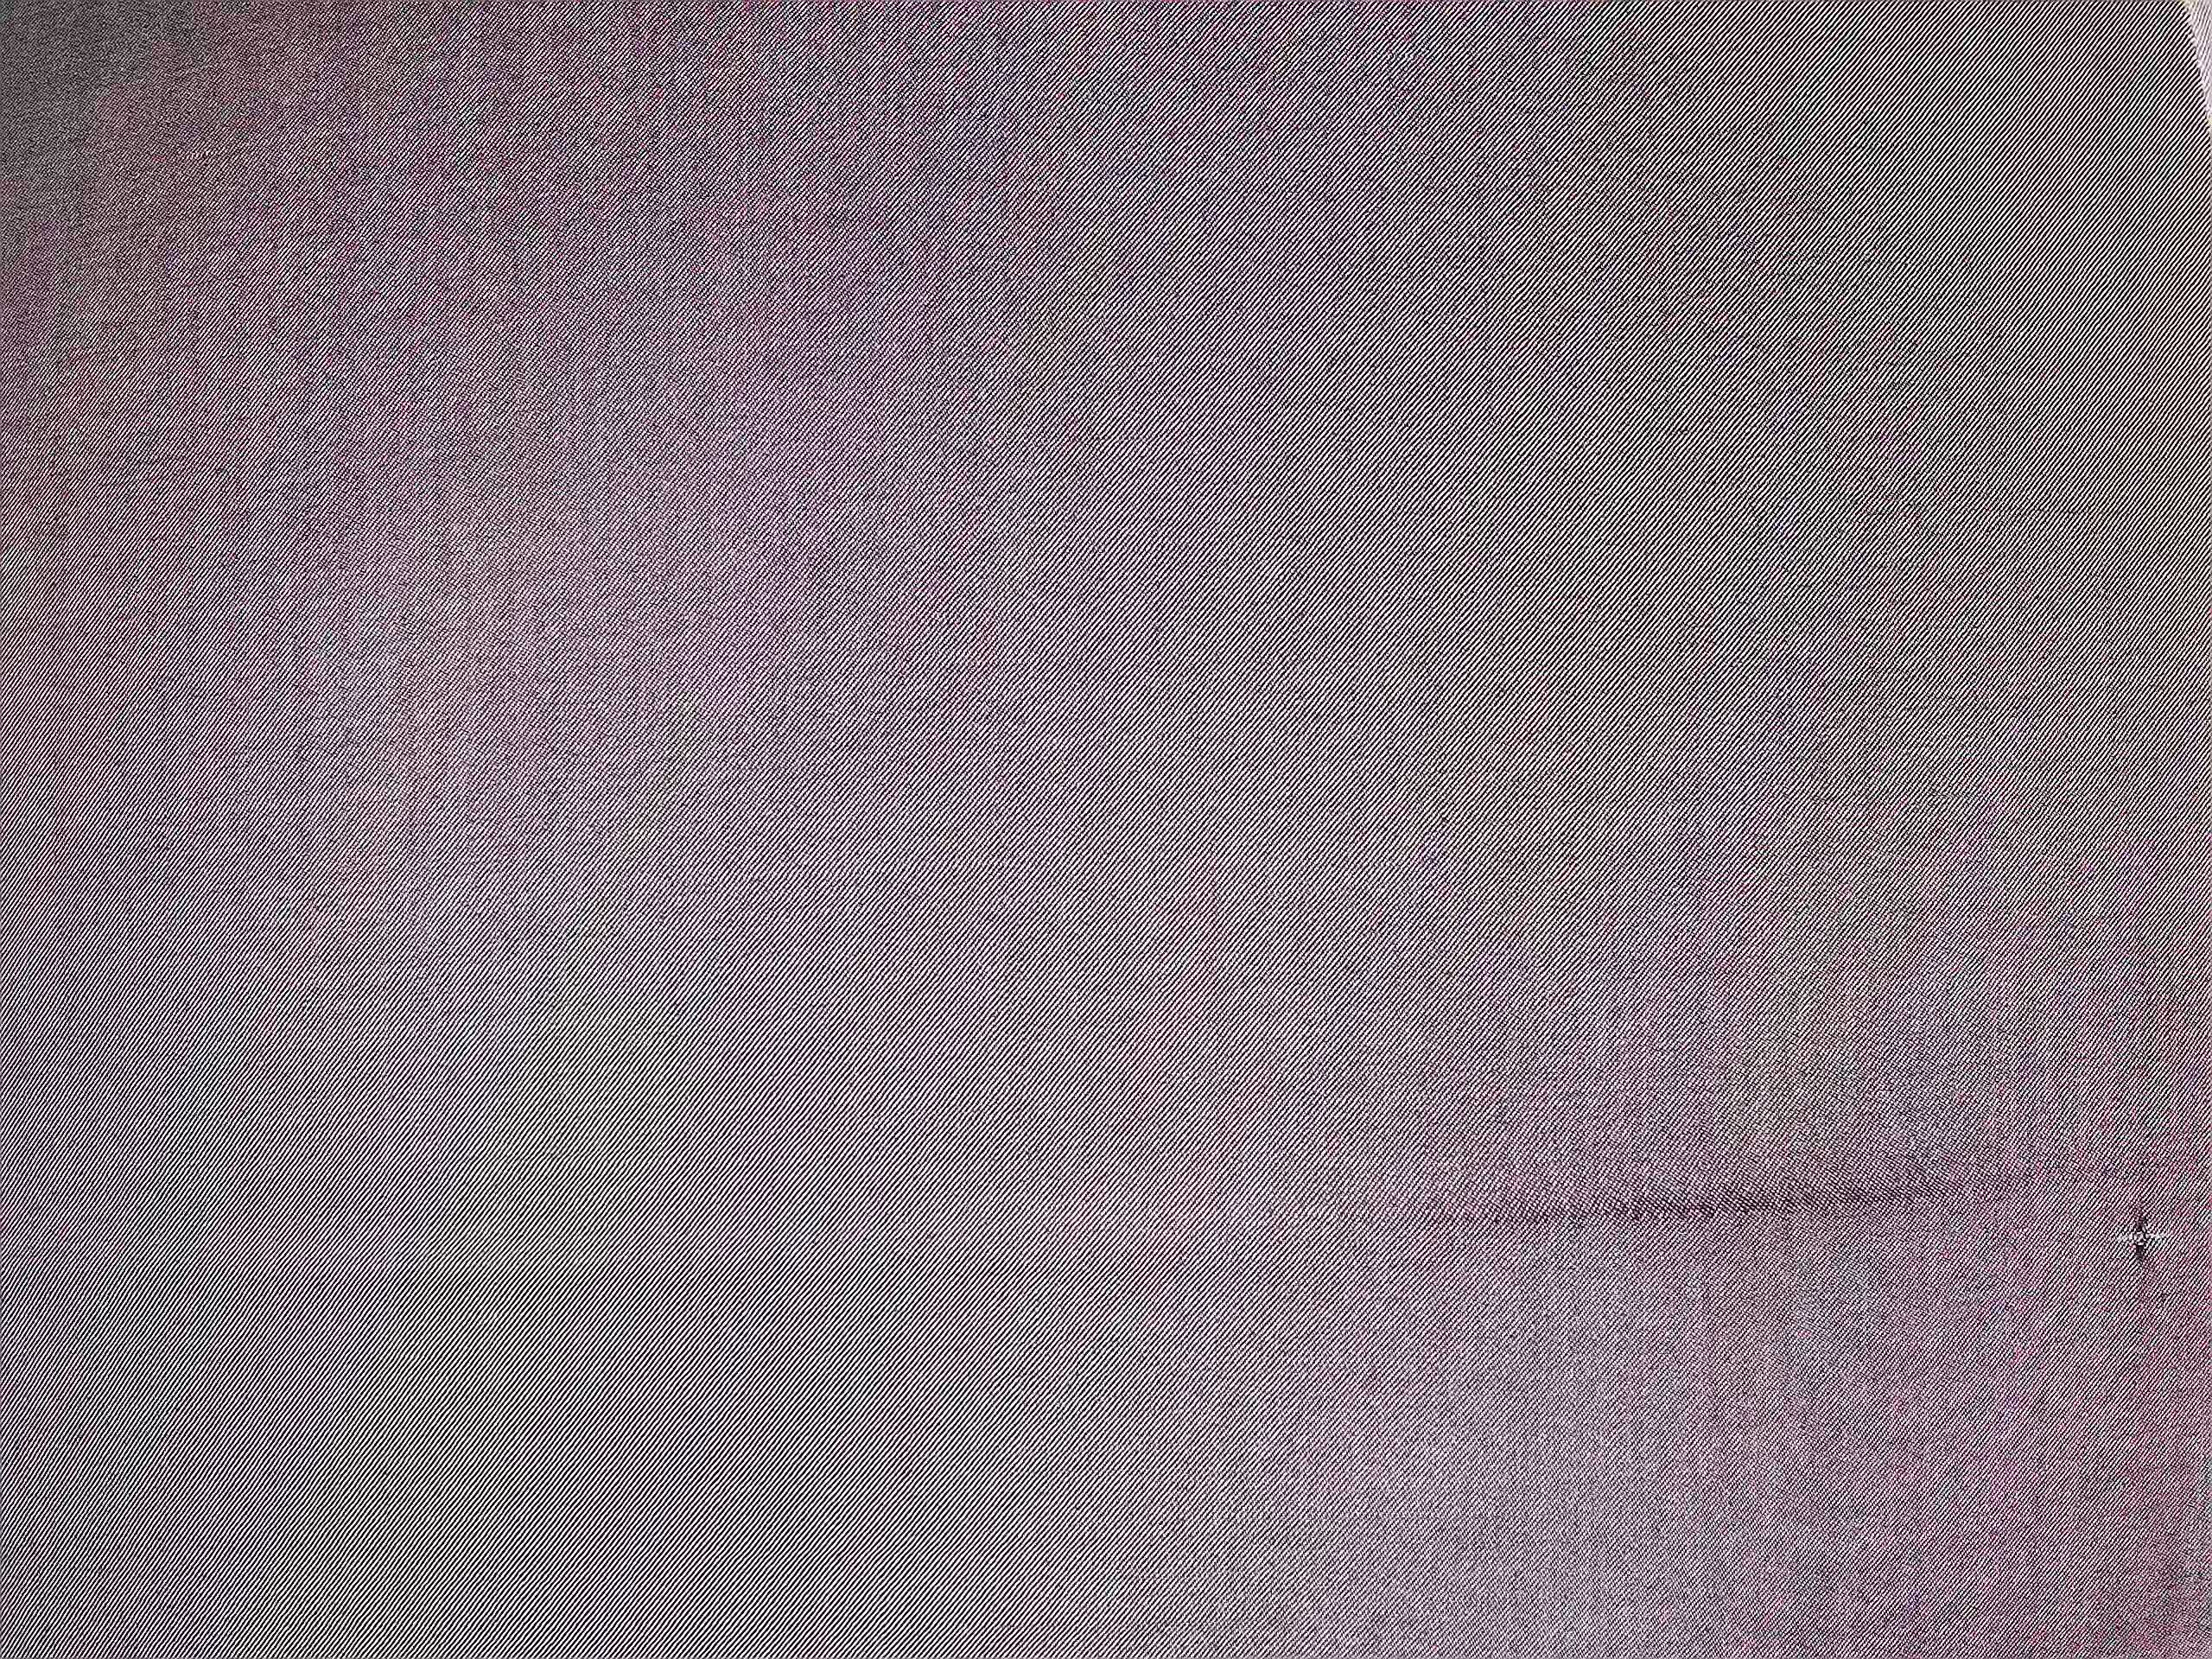knots: (2111, 1201, 2177, 1272)
thin-spinning: (1376, 1176, 2012, 1239)
